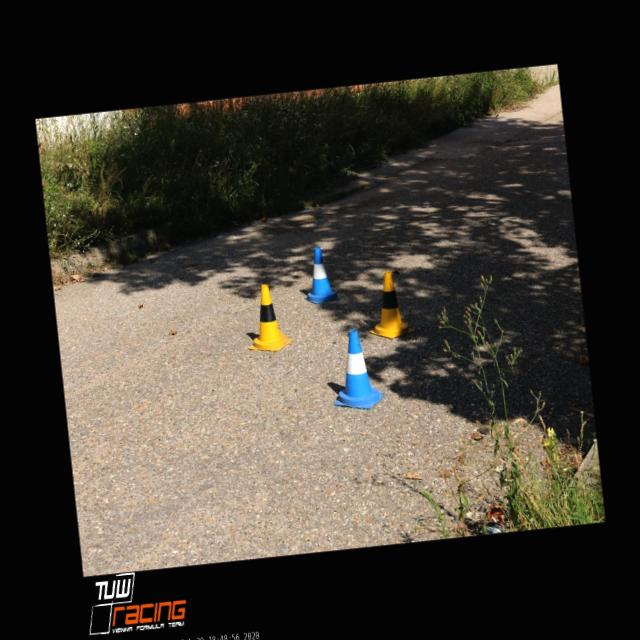blue_cone: (326, 326, 385, 411), (300, 244, 340, 304)
yellow_cone: (242, 282, 292, 353), (365, 269, 415, 340)
